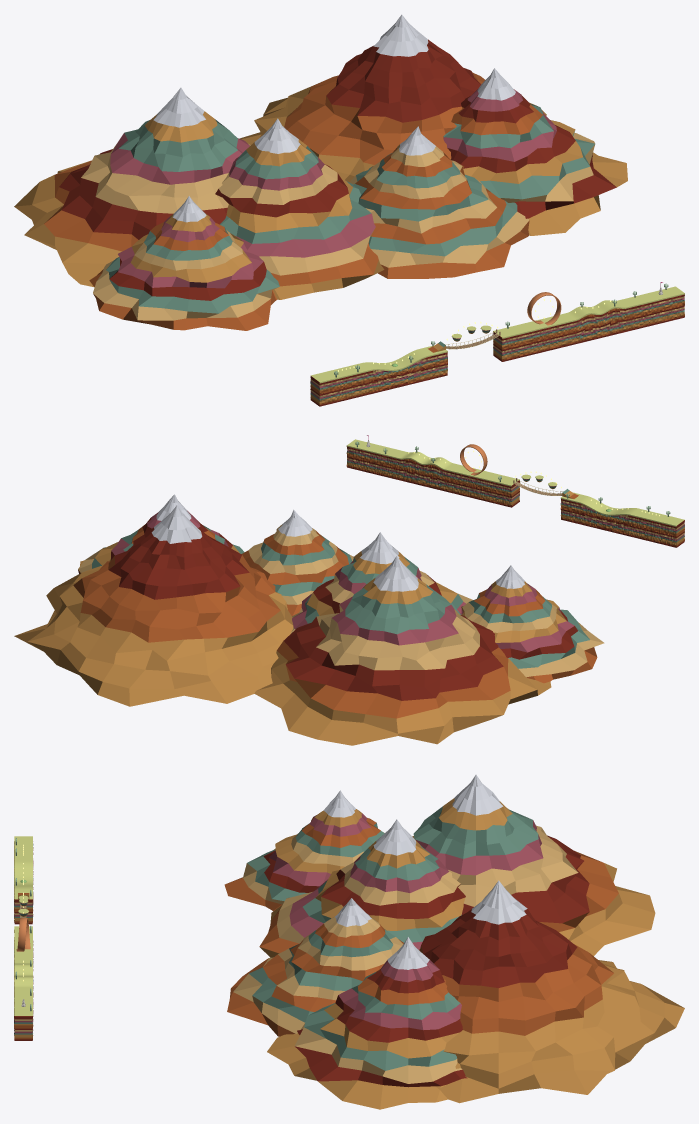
The model's file is nivel1.glb.
3 views of the same model, one above another, from view 1: azimuth 30°, elevation 25°; view 2: azimuth 150°, elevation 25°; view 3: azimuth 270°, elevation 25° (orthographic). The views are drawn at different scales.
Visible parts, largest first — view 1: SM_Fondo_Cerro.004, SM_Fondo_Cerro.005, SM_Fondo_Cerro.001, SM_Fondo_Cerro.002, SM_Fondo_Cerro, SM_Fondo_Cerro.003, SM_Tramo_B, SM_Tramo_A, SM_Tramo_B_Pasto, SM_Tramo_A_Pasto; view 2: SM_Fondo_Cerro.005, SM_Fondo_Cerro.004, SM_Fondo_Cerro, SM_Fondo_Cerro.002, SM_Fondo_Cerro.001, SM_Tramo_B, SM_Tramo_A, SM_Fondo_Cerro.003, SM_Tramo_B_Pasto, SM_Tramo_A_Pasto; view 3: SM_Fondo_Cerro.005, SM_Fondo_Cerro.003, SM_Fondo_Cerro.004, SM_Fondo_Cerro.001, SM_Fondo_Cerro.002, SM_Fondo_Cerro, SM_Tramo_B_Pasto, SM_Tramo_A_Pasto, SM_Tramo_B.
Part boxes in pixels (left/top/right/bottom): SM_Fondo_Cerro.004: left=14, top=87, right=250, bottom=286; SM_Fondo_Cerro.005: left=239, top=14, right=546, bottom=182; SM_Fondo_Cerro.001: left=215, top=118, right=384, bottom=299; SM_Fondo_Cerro.002: left=349, top=126, right=529, bottom=278; SM_Fondo_Cerro: left=89, top=196, right=279, bottom=330; SM_Fondo_Cerro.003: left=443, top=68, right=627, bottom=235; SM_Tramo_B: left=493, top=294, right=684, bottom=361; SM_Tramo_A: left=310, top=352, right=447, bottom=406; SM_Tramo_B_Pasto: left=493, top=286, right=684, bottom=338; SM_Tramo_A_Pasto: left=311, top=345, right=447, bottom=383; SM_Fondo_Cerro.005: left=14, top=505, right=293, bottom=706; SM_Fondo_Cerro.004: left=254, top=556, right=551, bottom=745; SM_Fondo_Cerro: left=461, top=565, right=604, bottom=683; SM_Fondo_Cerro.002: left=241, top=509, right=353, bottom=615; SM_Fondo_Cerro.001: left=290, top=532, right=472, bottom=633; SM_Tramo_B: left=346, top=446, right=519, bottom=507; SM_Tramo_A: left=560, top=499, right=684, bottom=547; SM_Fondo_Cerro.003: left=78, top=494, right=244, bottom=573; SM_Tramo_B_Pasto: left=346, top=439, right=519, bottom=486; SM_Tramo_A_Pasto: left=560, top=492, right=684, bottom=526; SM_Fondo_Cerro.005: left=419, top=880, right=684, bottom=1103; SM_Fondo_Cerro.003: left=267, top=937, right=467, bottom=1109; SM_Fondo_Cerro.004: left=412, top=774, right=655, bottom=955; SM_Fondo_Cerro.001: left=259, top=819, right=465, bottom=957; SM_Fondo_Cerro.002: left=227, top=898, right=403, bottom=1036; SM_Fondo_Cerro: left=224, top=790, right=384, bottom=911; SM_Tramo_B_Pasto: left=14, top=926, right=32, bottom=1015; SM_Tramo_A_Pasto: left=14, top=836, right=32, bottom=899; SM_Tramo_B: left=14, top=930, right=33, bottom=1040.
Bounding box in the file's own units: 282 × 72 × 297.
